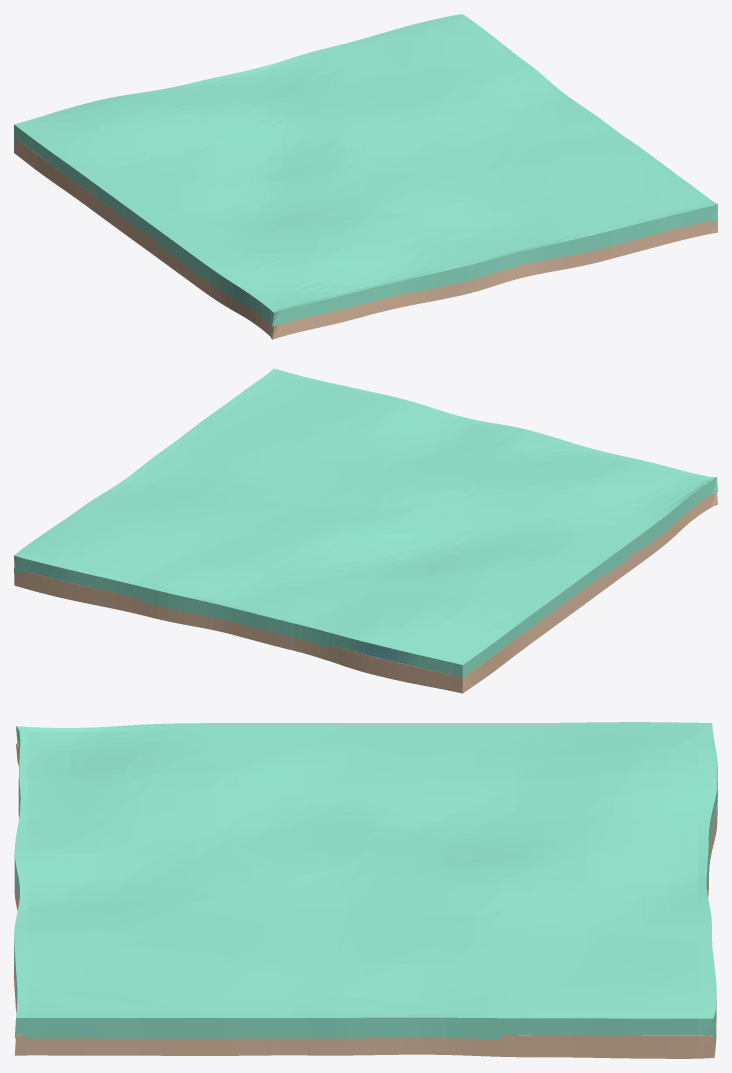
File: Ocean_Map.fbx
3 views of the same model, one above another, from view 1: azimuth 30°, elevation 25°; view 2: azimuth 150°, elevation 25°; view 3: azimuth 270°, elevation 25° (orthographic). The views are drawn at different scales.
Parts seen in each view (by area): view 1: Box002; view 2: Box002; view 3: Box002.
Part boxes in pixels (bbox=[...]): Box002: bbox=[14, 14, 717, 339]; Box002: bbox=[14, 368, 717, 693]; Box002: bbox=[14, 722, 717, 1058].
Bounding box in the file's own units: 15.9 × 1.14 × 15.92.
